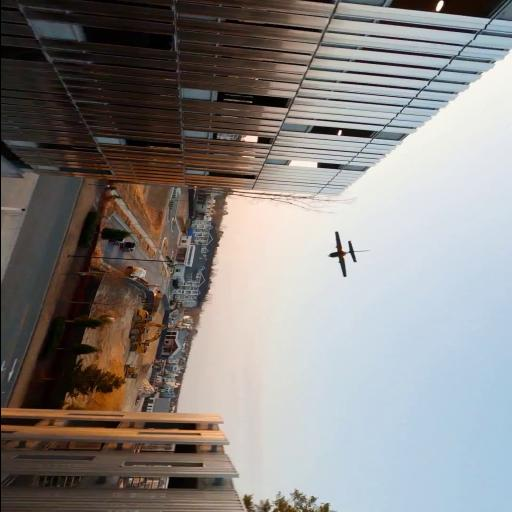uav: (316, 229, 370, 279)
